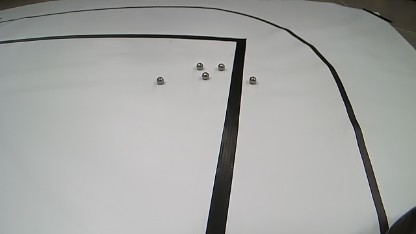ironball: (156, 76, 164, 85), (196, 62, 204, 70), (248, 76, 256, 84), (201, 72, 209, 80), (218, 63, 225, 71)
